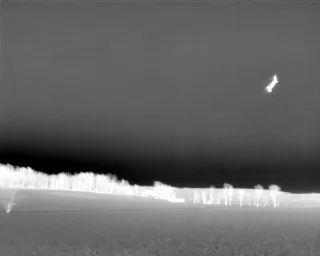DRONE: (261, 70, 281, 98)
